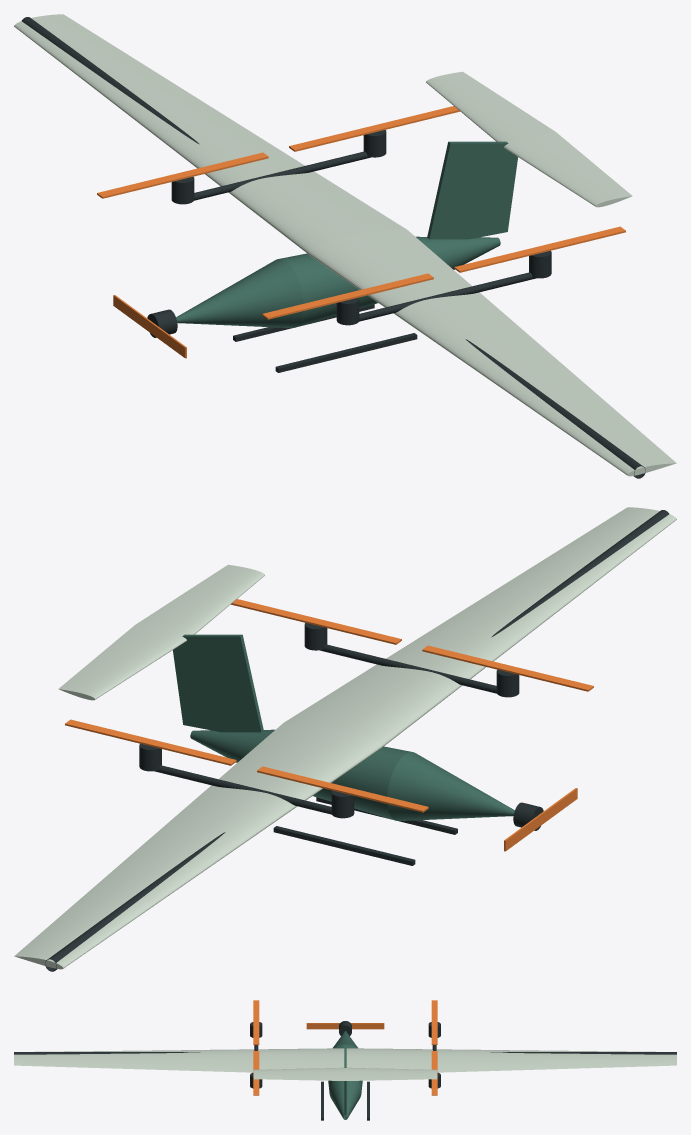
The picture shows the model from 3 angles, top to bottom: view 1: azimuth 30°, elevation 25°; view 2: azimuth 150°, elevation 25°; view 3: azimuth 270°, elevation 25°; orthographic projection. The views are drawn at different scales.
Visible parts, largest first — view 1: wing-1, wing1, fuselage, fin, tail-1, tail1, wing_spar, prop_-1_230.0, prop_-1_700.0, prop_1_230.0, prop_1_700.0, boom-1 (+3 smaller); view 2: wing1, wing-1, fuselage, fin, tail1, tail-1, wing_spar, prop_1_230.0, prop_1_700.0, prop_-1_230.0, prop_-1_700.0, boom1 (+3 smaller); view 3: wing-1, wing1, fuselage, tail-1, tail1, wing_spar, cruise_prop, prop_-1_230.0, prop_1_230.0, prop_-1_700.0, prop_1_700.0.
Part boxes in pixels (x1,y1,x2,y2): wing-1: (308, 229, 676, 476); wing1: (14, 14, 406, 254); fuselage: (176, 236, 500, 328); fin: (427, 141, 517, 239); tail-1: (504, 131, 632, 207); tail1: (426, 71, 554, 142); wing_spar: (21, 17, 645, 478); prop_-1_230.0: (262, 273, 433, 319); prop_-1_700.0: (454, 226, 625, 272); prop_1_230.0: (97, 152, 268, 198); prop_1_700.0: (289, 106, 459, 151); boom-1: (359, 272, 536, 321); wing1: (14, 722, 382, 969); wing-1: (284, 507, 676, 747); fuselage: (190, 729, 514, 820); fin: (173, 634, 263, 732); tail1: (58, 624, 186, 700); tail-1: (136, 564, 264, 635); wing_spar: (45, 510, 669, 971); prop_1_230.0: (257, 766, 428, 812); prop_1_700.0: (65, 719, 236, 765); prop_-1_230.0: (422, 645, 593, 691); prop_-1_700.0: (231, 599, 401, 644); boom1: (154, 765, 331, 814); wing-1: (14, 1048, 344, 1072); wing1: (346, 1048, 676, 1072); fuselage: (328, 1031, 362, 1119); tail-1: (253, 1067, 345, 1080); tail1: (345, 1067, 437, 1080); wing_spar: (14, 1052, 676, 1054); cruise_prop: (306, 1023, 384, 1029); prop_-1_230.0: (253, 1000, 259, 1044); prop_1_230.0: (431, 1000, 437, 1044); prop_-1_700.0: (253, 1051, 259, 1095); prop_1_700.0: (431, 1051, 437, 1095).
Size of the model in its own units: 994 by 390 by 2600.
